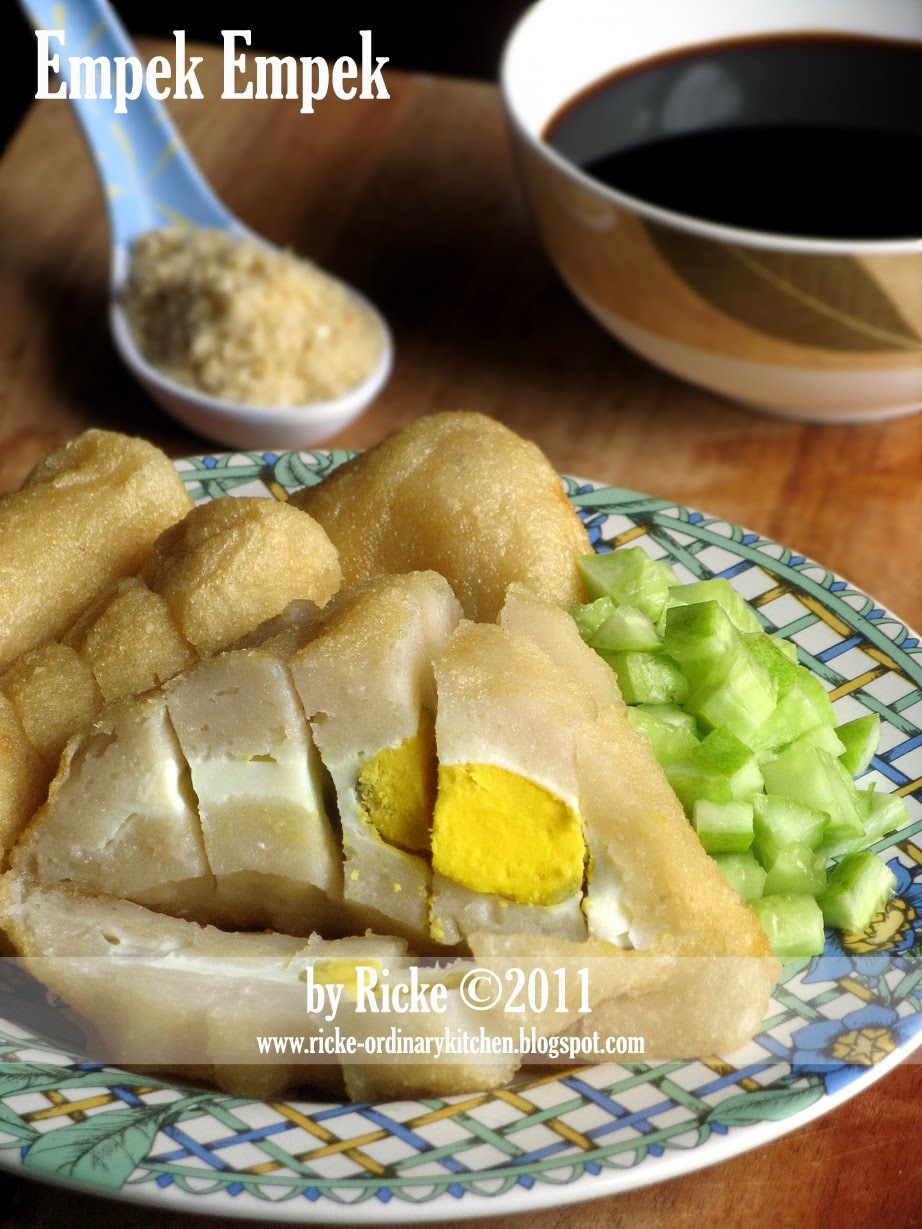pempek: (2, 406, 775, 1097)
